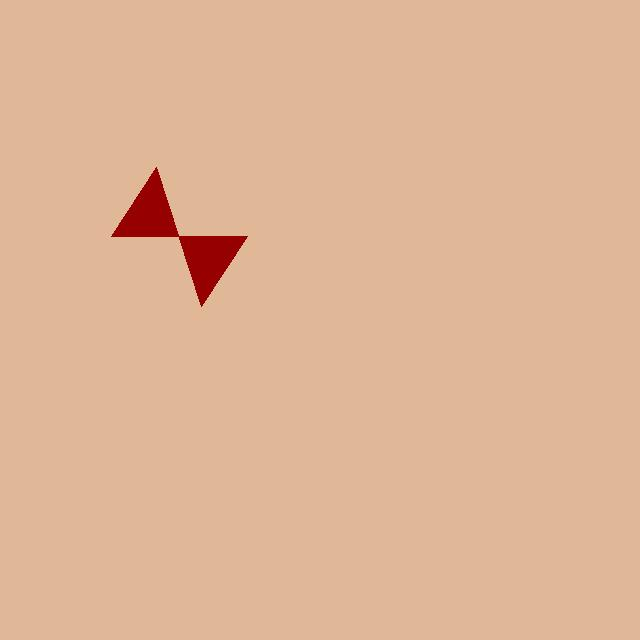laceration: (111, 167, 247, 306)
